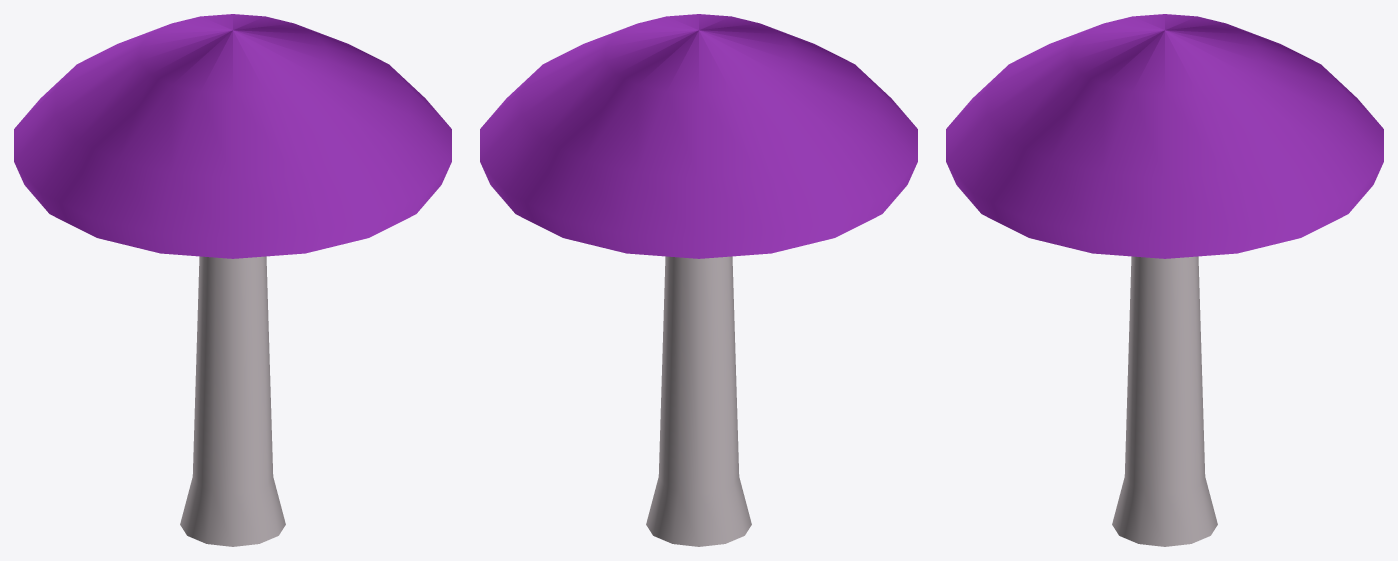
File: flora_glowcap.glb
3 views of the same model, side by side, from view 1: azimuth 30°, elevation 25°; view 2: azimuth 150°, elevation 25°; view 3: azimuth 270°, elevation 25° (orthographic).
Visible parts, largest first — view 1: Crown, Trunk; view 2: Crown, Trunk; view 3: Crown, Trunk.
Boxes of the visible parts, x1=… form: Crown: x1=14, y1=14, x2=451, y2=258; Trunk: x1=180, y1=256, x2=285, y2=546; Crown: x1=480, y1=14, x2=917, y2=258; Trunk: x1=646, y1=256, x2=751, y2=546; Crown: x1=946, y1=14, x2=1383, y2=258; Trunk: x1=1112, y1=256, x2=1217, y2=546.
Size of the model in its own units: 4.2 by 5.15 by 4.14.
